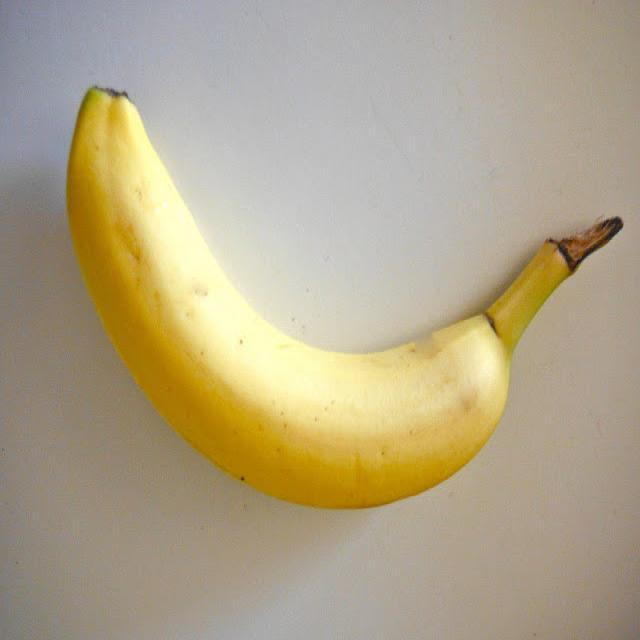Banana: (66, 88, 621, 518)
